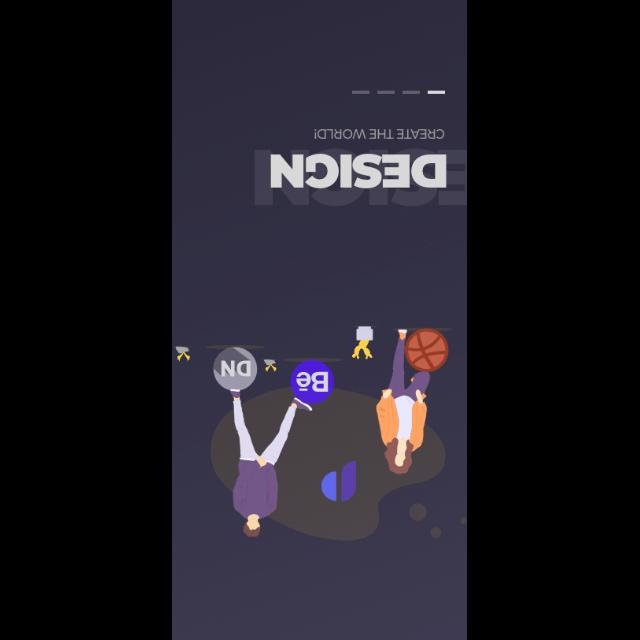image: (173, 326, 467, 540)
pageindicator: (352, 90, 446, 94)
text: (270, 154, 448, 188), (315, 128, 445, 140)
